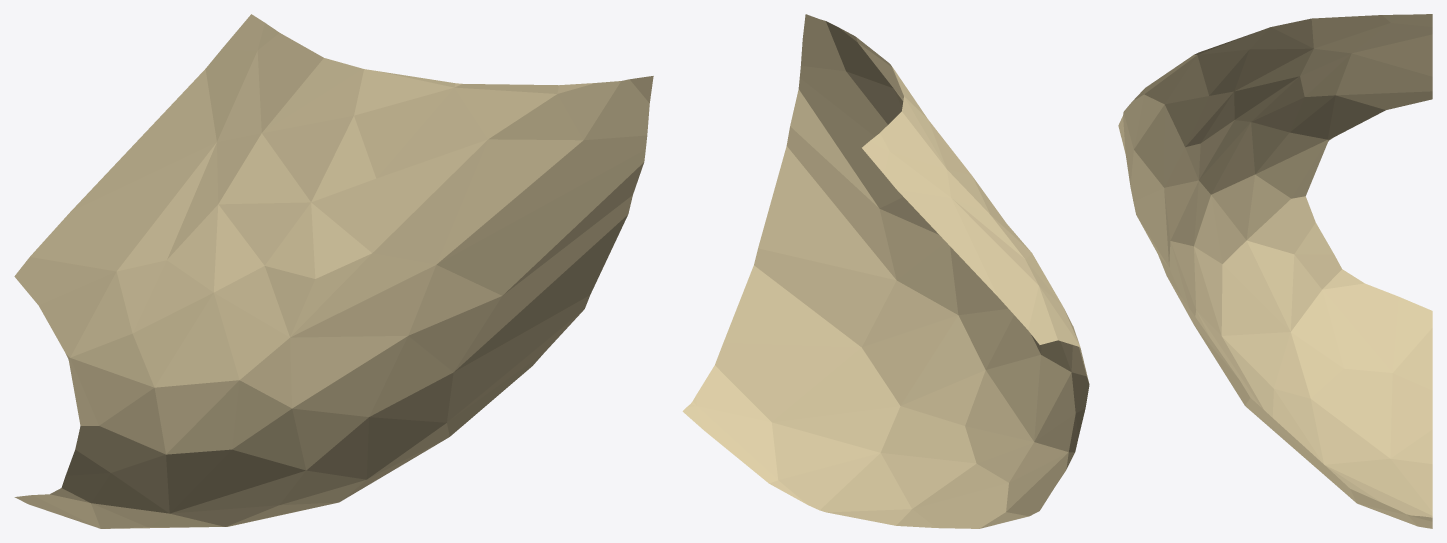
Rendered from bisect-8-0-1.gltf.
3 views of the same model, side by side, from view 1: azimuth 30°, elevation 25°; view 2: azimuth 150°, elevation 25°; view 3: azimuth 270°, elevation 25° (orthographic). The views are drawn at different scales.
Visible parts, largest first — view 1: bisect-8-0-1; view 2: bisect-8-0-1; view 3: bisect-8-0-1.
Part boxes in pixels (x1=…): bisect-8-0-1: x1=14, y1=14, x2=653, y2=528; bisect-8-0-1: x1=682, y1=14, x2=1089, y2=528; bisect-8-0-1: x1=1118, y1=14, x2=1432, y2=528.
Bounding box in the file's own units: 20 × 19.96 × 11.94.
